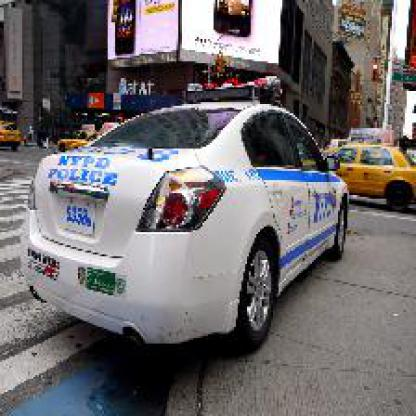emergency: (20, 95, 374, 371)
